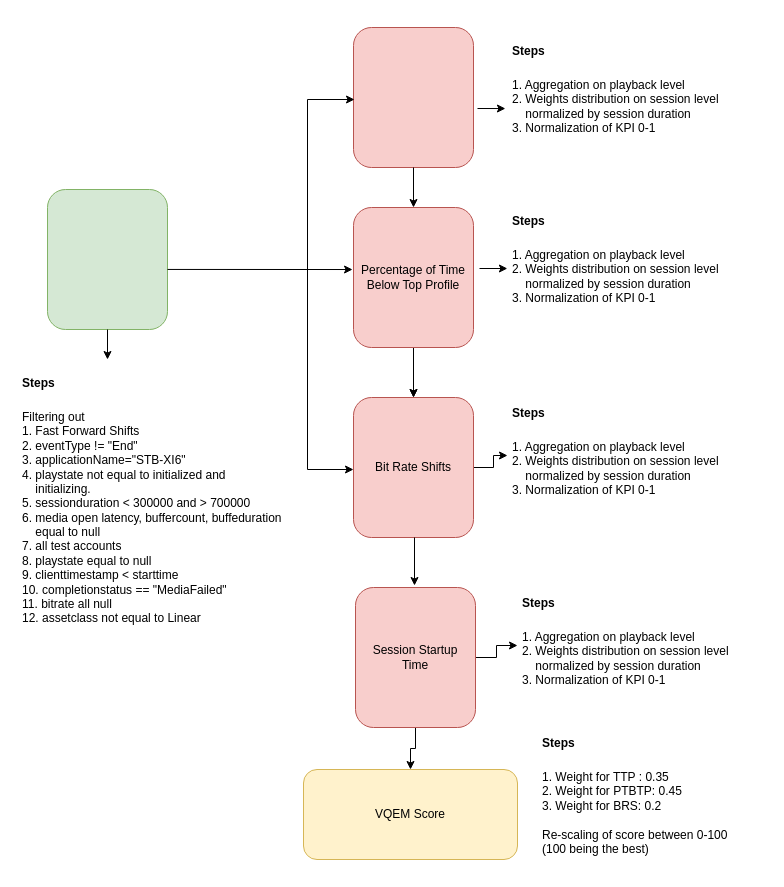
Image size: 784x887. Some labels were removed from this diagram. Each missing label, with the centre of its shape:
Preprocessing (Filteration, Noise Cleaning): [107,259]
Time To Top Profile: [413,97]
